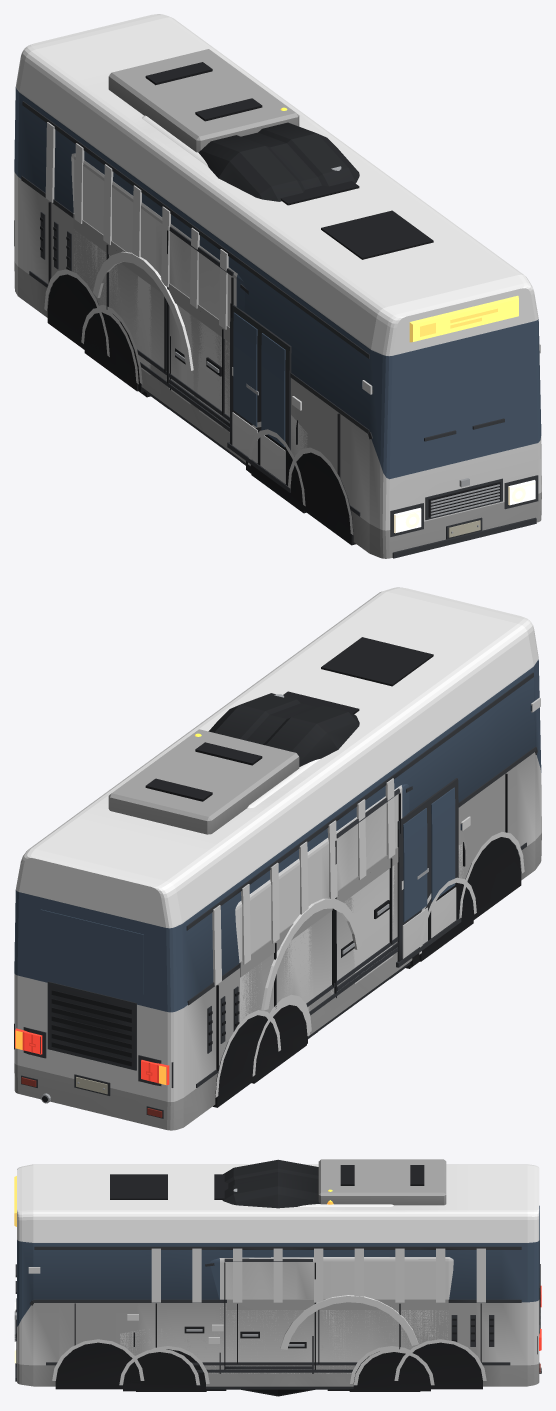
File: fleet-near.glb
3 renders of one model, top to bottom at view 1: azimuth 30°, elevation 25°; view 2: azimuth 150°, elevation 25°; view 3: azimuth 270°, elevation 25°, orthographic. The views are drawn at different scales.
Parts seen in each view (by area): view 1: BusNear, VanNear, WheelNear, LampsBusNear, TractorNear, PickupNear; view 2: BusNear, VanNear, WheelNear, TractorNear, LampsBusNear, PickupNear; view 3: BusNear, VanNear, WheelNear, TractorNear, PickupNear, SedanNear, LampsBusNear.
Part boxes in pixels (bbox=[...]): BusNear: bbox=[14, 14, 541, 558]; VanNear: bbox=[71, 153, 307, 513]; WheelNear: bbox=[198, 122, 359, 201]; LampsBusNear: bbox=[394, 295, 535, 533]; TractorNear: bbox=[93, 115, 341, 370]; PickupNear: bbox=[99, 304, 261, 473]; BusNear: bbox=[14, 587, 541, 1130]; VanNear: bbox=[235, 784, 476, 1083]; WheelNear: bbox=[208, 693, 359, 766]; TractorNear: bbox=[247, 694, 361, 1010]; LampsBusNear: bbox=[15, 1028, 169, 1085]; PickupNear: bbox=[267, 880, 431, 1043]; BusNear: bbox=[14, 1159, 541, 1389]; VanNear: bbox=[119, 1257, 453, 1391]; WheelNear: bbox=[222, 1159, 319, 1396]; TractorNear: bbox=[233, 1188, 418, 1349]; PickupNear: bbox=[151, 1324, 409, 1390]; SedanNear: bbox=[136, 1337, 420, 1391]; LampsBusNear: bbox=[14, 1176, 541, 1363].
Size of the model in its own units: 1.2 by 2 by 4.55.
